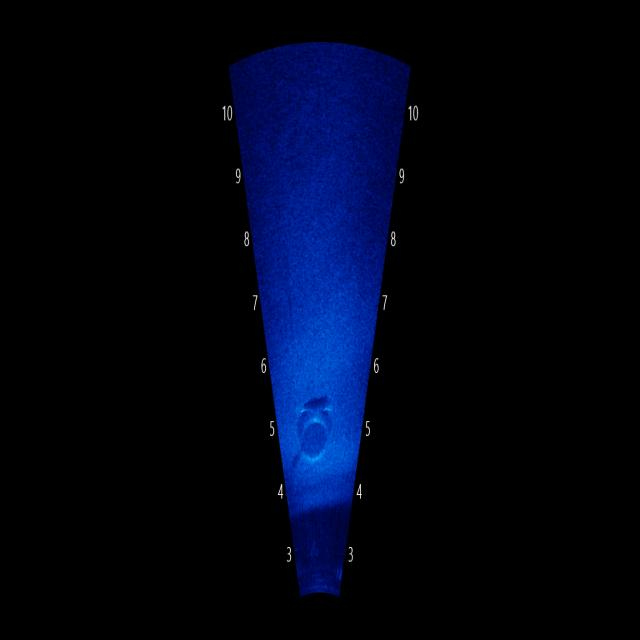circle: (280, 376, 346, 485)
